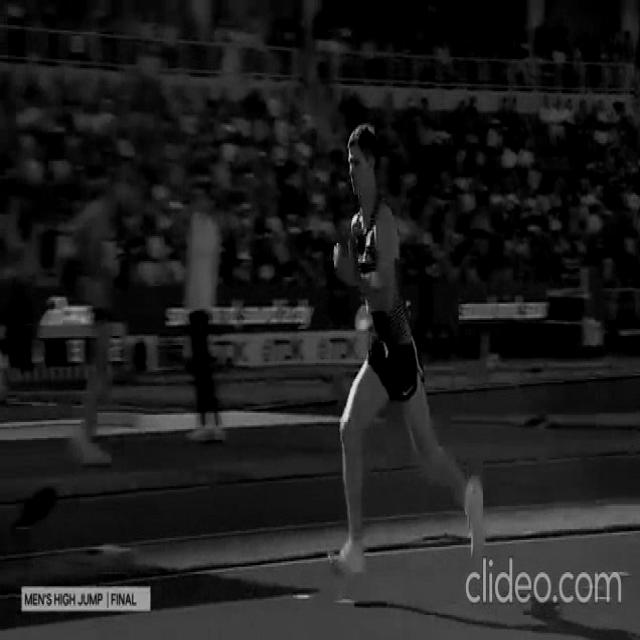run: (333, 126, 482, 574)
